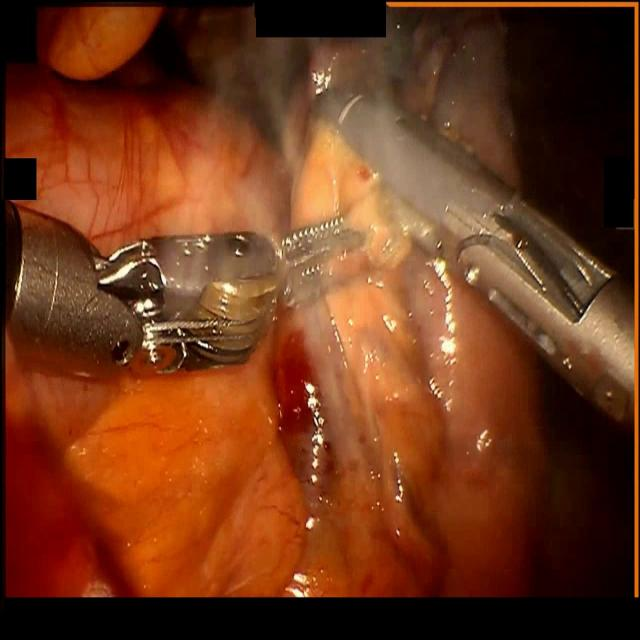surgical-area: (4, 239, 634, 600), (2, 3, 636, 278)
surgical-tool: (308, 80, 635, 438), (4, 202, 369, 379)
